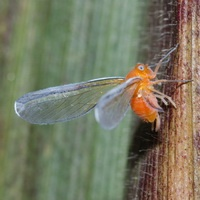insect: (15, 46, 190, 128)
